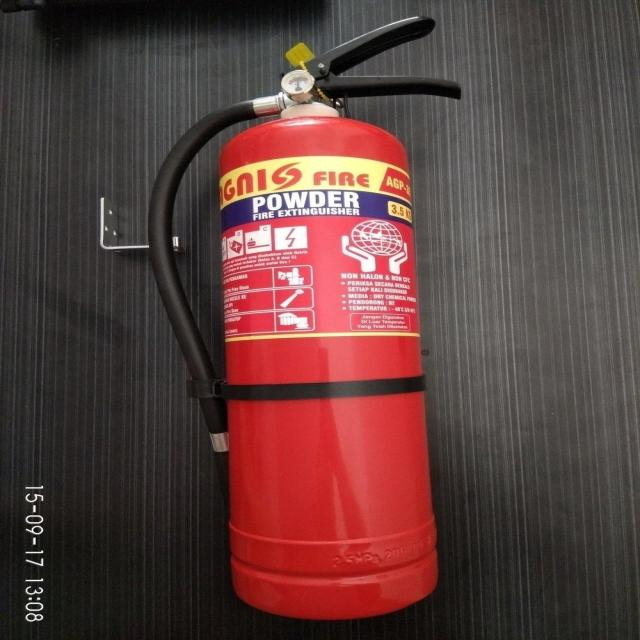fire_extinguisher: (140, 13, 471, 626)
